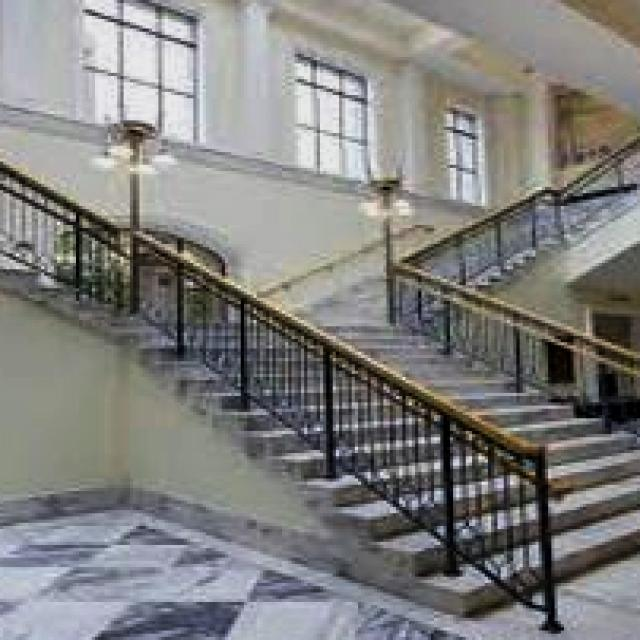upstair: (343, 315, 640, 578)
